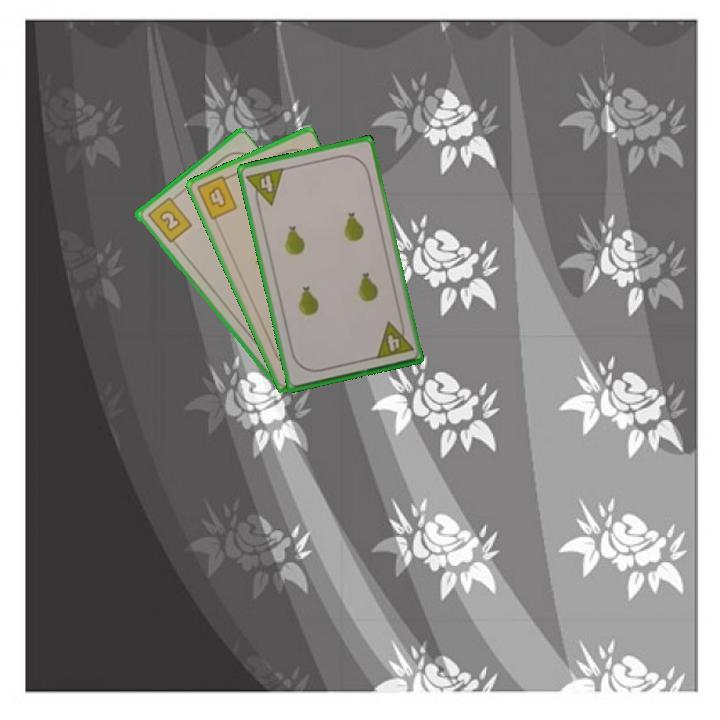2b: (144, 191, 194, 246)
4b: (192, 171, 240, 223)
4p: (243, 164, 287, 211), (372, 316, 416, 361)
